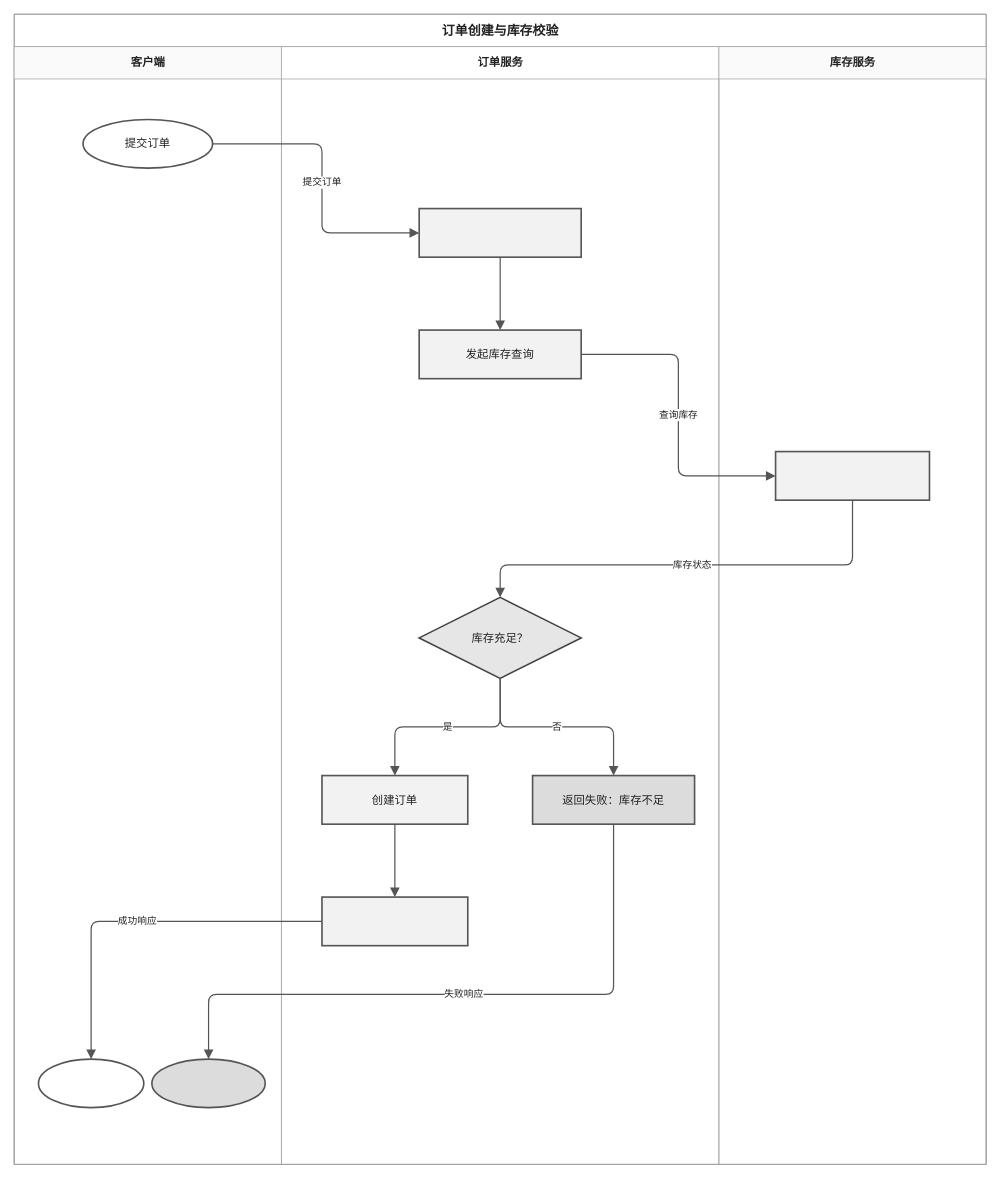
Some shapes in this 1000 by 1179 pixel diagram are drawn without their labels. The centre of each missing label's shape, as x and y in pixels:
"展示“库存不足”" goes at (x=208, y=1083).
"展示成功" goes at (x=90, y=1083).
"查询并返回库存状态" goes at (x=852, y=475).
"校验订单" goes at (x=500, y=232).
"返回成功" goes at (x=394, y=921).
